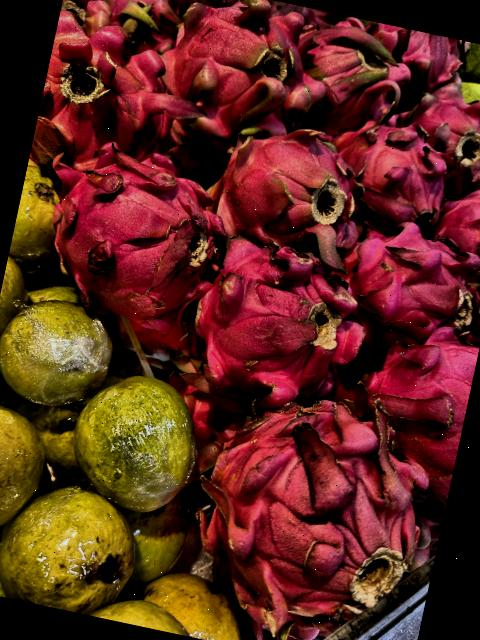buah-naga-matang: (168, 388, 443, 634), (31, 136, 233, 328), (180, 221, 380, 409), (127, 0, 340, 157), (33, 14, 216, 178), (329, 311, 480, 503), (198, 115, 378, 255), (337, 212, 480, 347), (284, 8, 421, 140), (320, 110, 457, 237)
